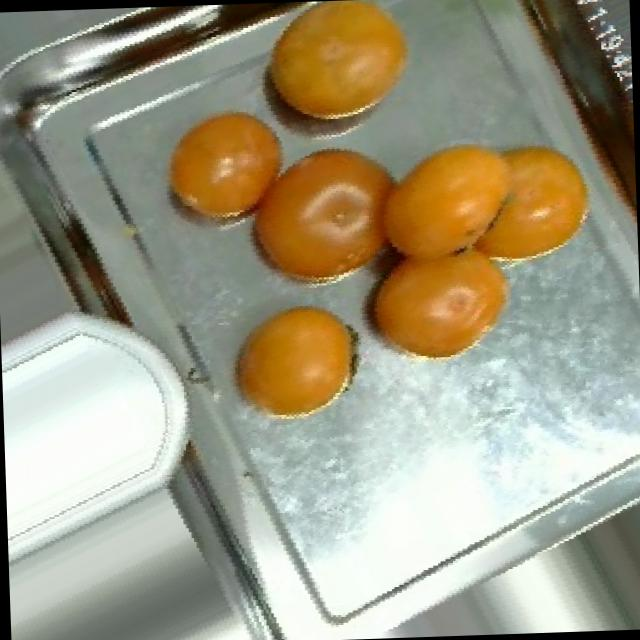Fruit: (206, 116, 434, 310), (398, 120, 614, 287), (327, 222, 533, 382), (138, 82, 314, 248), (234, 0, 433, 141), (207, 282, 386, 438)
